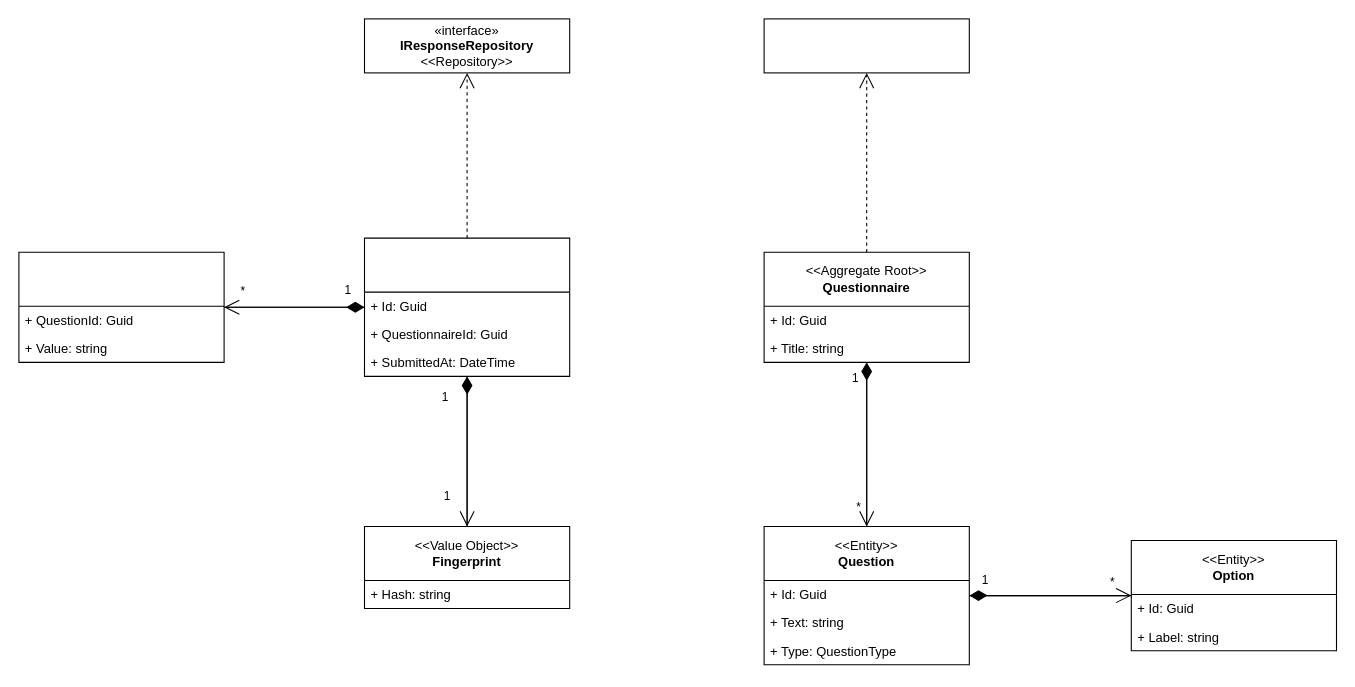
The diagram is 1355 pixels wide and 687 high, and some of its shapes have lost their labels. The box of each missing label's shape, as (x1, y1, x2, y2) in pixels:
<<Aggregate Root>> Response: (363, 237, 570, 376)
<<Value Object >> Answer: (18, 251, 224, 362)
«interface» IQuestionnaireRepository <<Repository>>: (763, 18, 969, 73)
